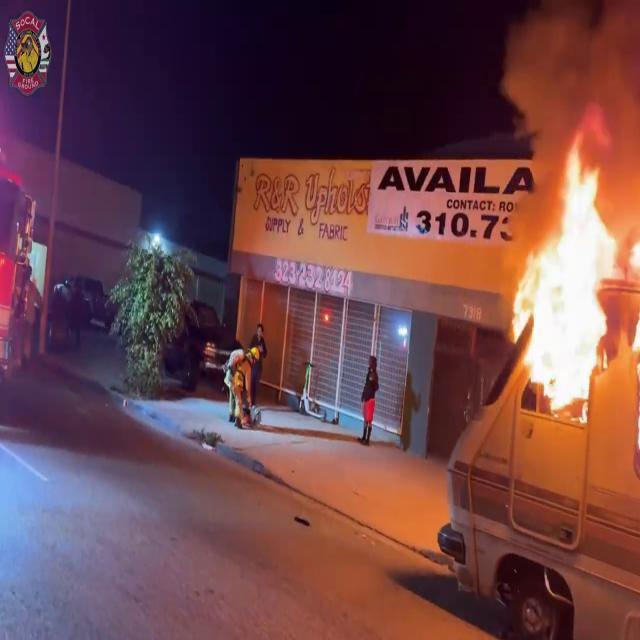Fire: (505, 132, 639, 416)
Smoke: (493, 0, 640, 185)
